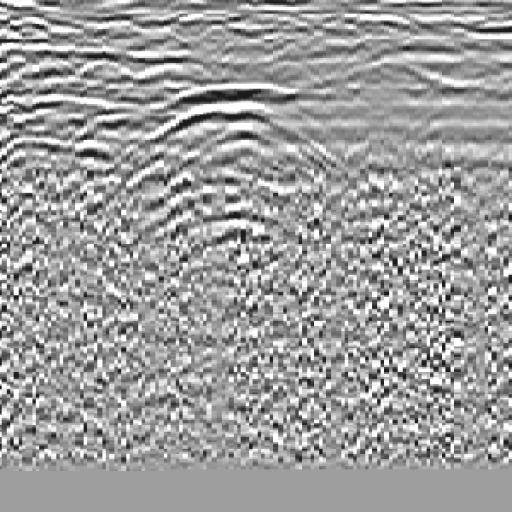metalic: (121, 69, 346, 219)
